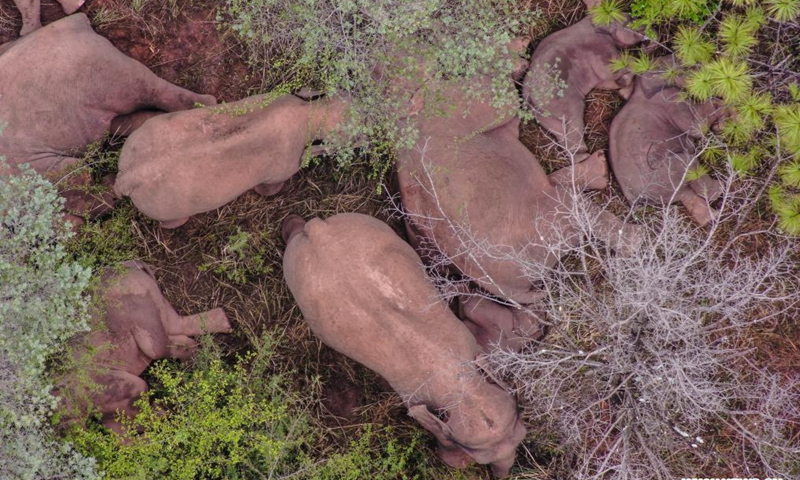Adult Elephant: (279, 217, 506, 466), (374, 68, 537, 284), (109, 95, 369, 215)
Baby Elephant: (23, 269, 253, 408), (606, 66, 731, 237), (480, 21, 650, 135)
